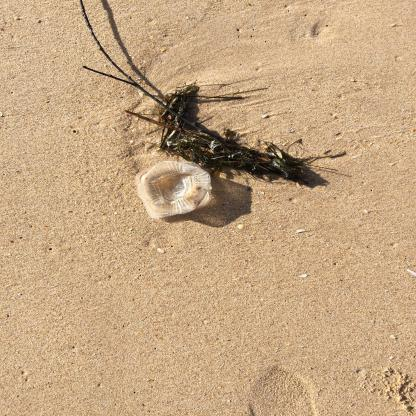plastik: (136, 160, 212, 219)
